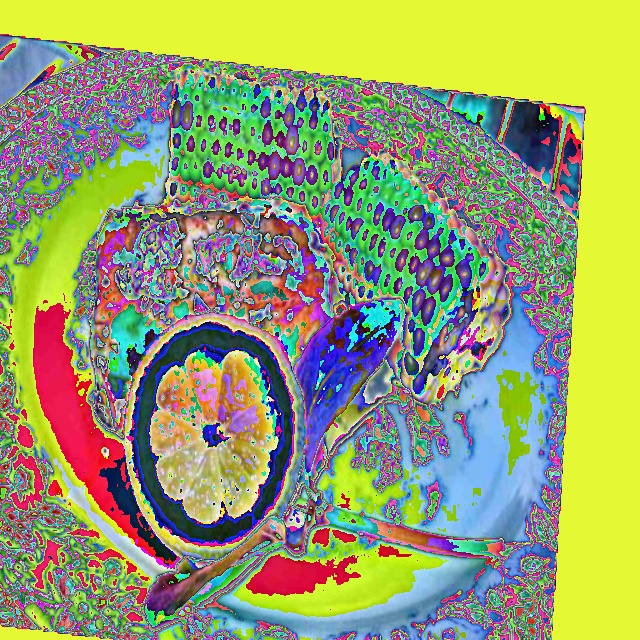background: (89, 69, 508, 629)
